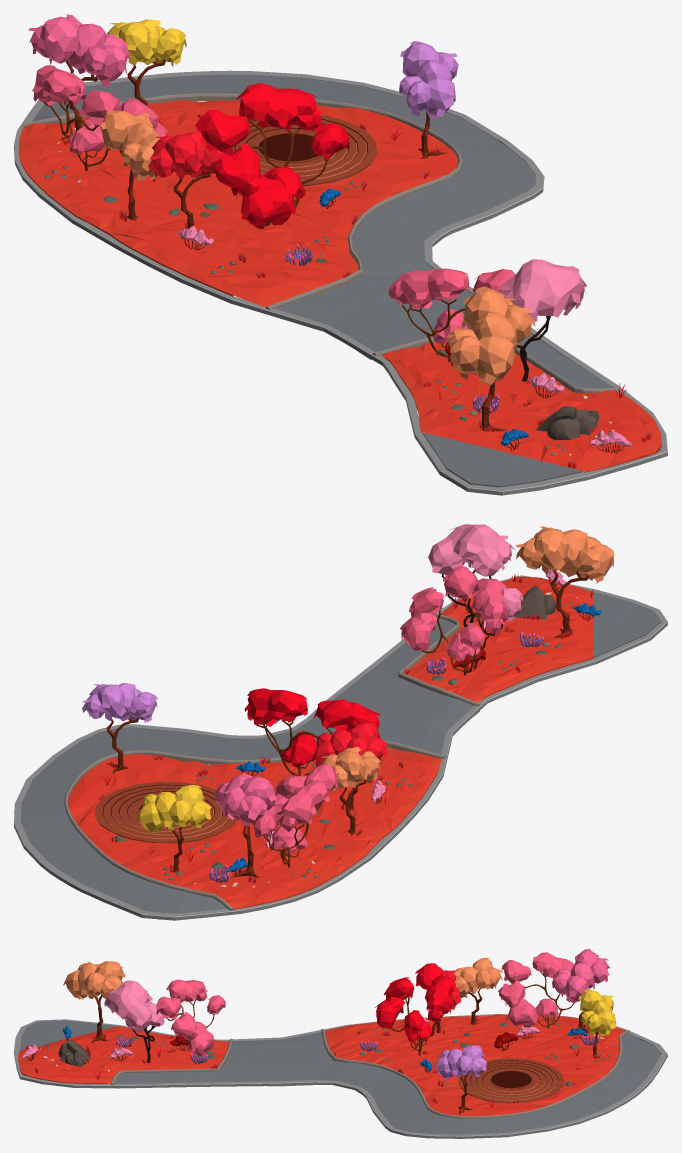
The model's file is island_cutoutVersion.glb.
3 views of the same model, one above another, from view 1: azimuth 30°, elevation 25°; view 2: azimuth 150°, elevation 25°; view 3: azimuth 270°, elevation 25° (orthographic). The views are drawn at different scales.
Visible parts, largest first — view 1: Core_Isle.005, Core_Trees.003, Core_Floor_01.003, Core_Isle.007, Core_Details.003, Core_Rocks.003; view 2: Core_Isle.005, Core_Trees.003, Core_Floor_01.003, Core_Isle.007, Core_Details.003, Core_Rocks.003; view 3: Core_Isle.005, Core_Floor_01.003, Core_Trees.003, Core_Isle.007, Core_Details.003, Core_Rocks.003.
Boxes of the visible parts, <box> form: Core_Isle.005: <box>18,100,662,472</box>; Core_Trees.003: <box>28,14,586,431</box>; Core_Floor_01.003: <box>22,74,621,393</box>; Core_Isle.007: <box>14,70,667,495</box>; Core_Details.003: <box>44,113,651,468</box>; Core_Rocks.003: <box>57,128,614,455</box>; Core_Isle.005: <box>68,576,593,909</box>; Core_Trees.003: <box>82,524,614,877</box>; Core_Floor_01.003: <box>21,613,480,919</box>; Core_Isle.007: <box>14,575,667,920</box>; Core_Details.003: <box>99,569,601,883</box>; Core_Rocks.003: <box>114,586,577,887</box>; Core_Isle.005: <box>18,1014,625,1116</box>; Core_Floor_01.003: <box>110,1029,661,1134</box>; Core_Trees.003: <box>63,949,616,1114</box>; Core_Isle.007: <box>14,1014,667,1138</box>; Core_Details.003: <box>22,1017,610,1112</box>; Core_Rocks.003: <box>39,1022,607,1085</box>.
Size of what is drawn, in the model's own units: 41.75 by 13.79 by 94.31.
Materials: 2 (2 with a texture image).
